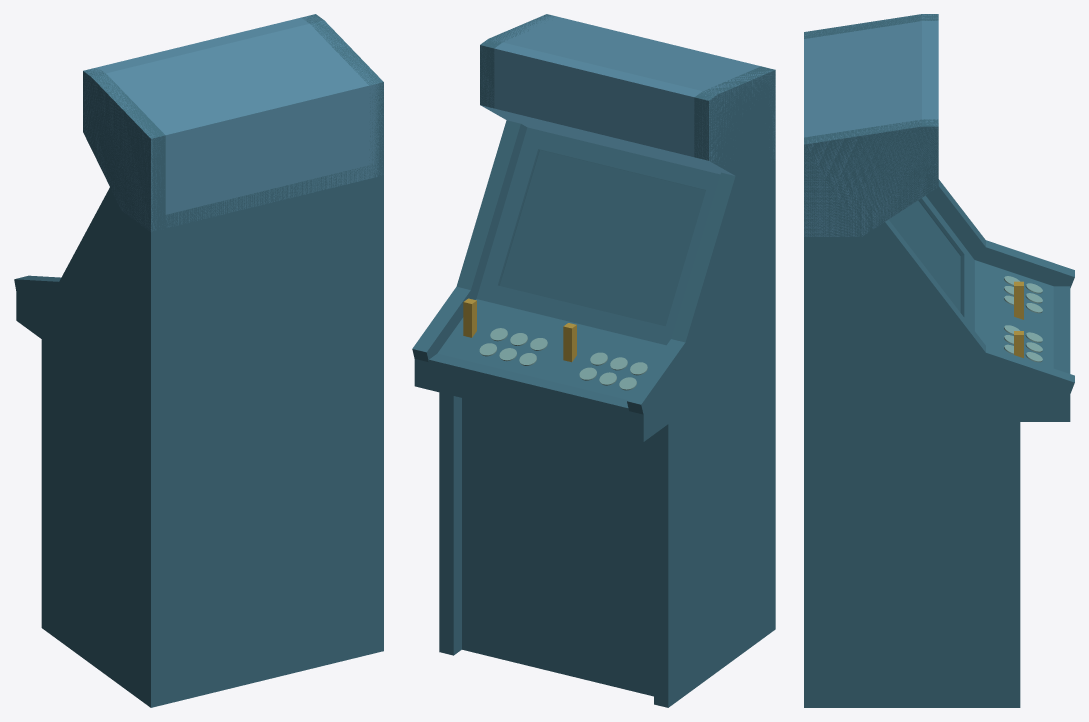
The picture shows the model from 3 angles, left to right: view 1: azimuth 30°, elevation 25°; view 2: azimuth 150°, elevation 25°; view 3: azimuth 270°, elevation 25°; orthographic projection.
Visible parts, largest first — view 1: arcade; view 2: arcade; view 3: arcade.
Boxes of the visible parts, x1,y1,x2,y2 form: arcade: (14,14,383,707); arcade: (412,14,775,707); arcade: (804,14,1074,707).
Size of the model in its own units: 0.747 by 1.8 by 0.76.
